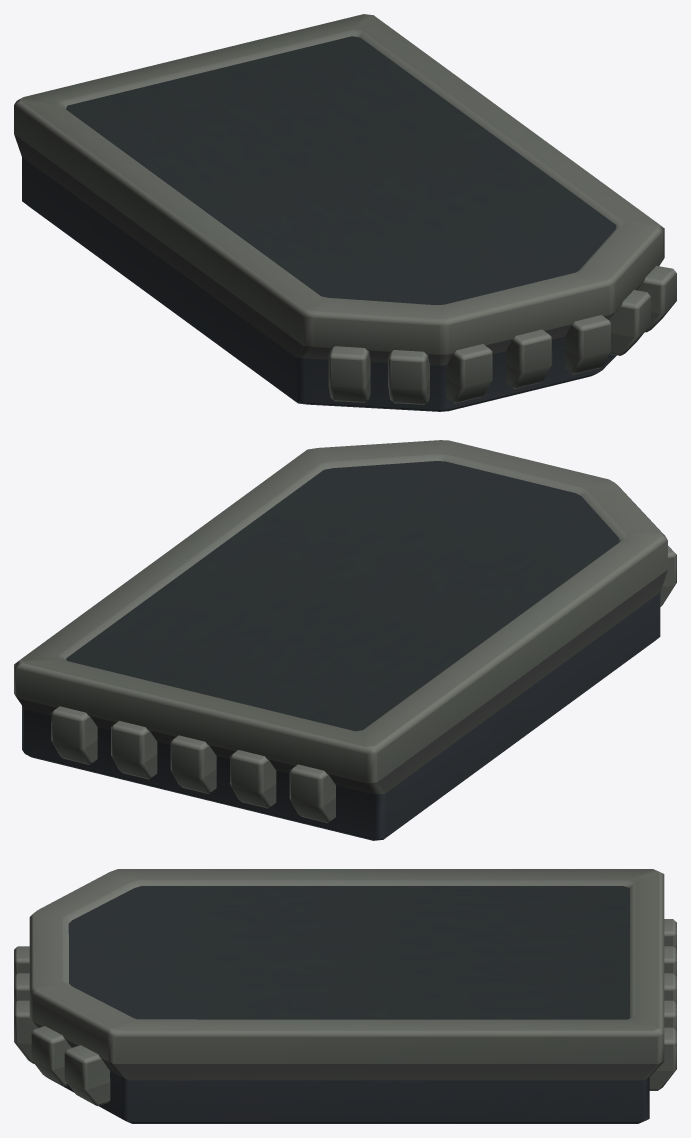
File: appartment_type4_roof_type2_flat_cream.fbx
3 views of the same model, one above another, from view 1: azimuth 30°, elevation 25°; view 2: azimuth 150°, elevation 25°; view 3: azimuth 270°, elevation 25° (orthographic). The views are drawn at different scales.
Parts seen in each view (by area): view 1: appartment_type4_roof_type2_flat_cream; view 2: appartment_type4_roof_type2_flat_cream; view 3: appartment_type4_roof_type2_flat_cream.
Part boxes in pixels (box(x1,y1,x2,y2)): appartment_type4_roof_type2_flat_cream: box(14, 14, 676, 411); appartment_type4_roof_type2_flat_cream: box(14, 440, 676, 840); appartment_type4_roof_type2_flat_cream: box(14, 869, 676, 1123).
Size of the model in its own units: 610 by 160 by 1032.
